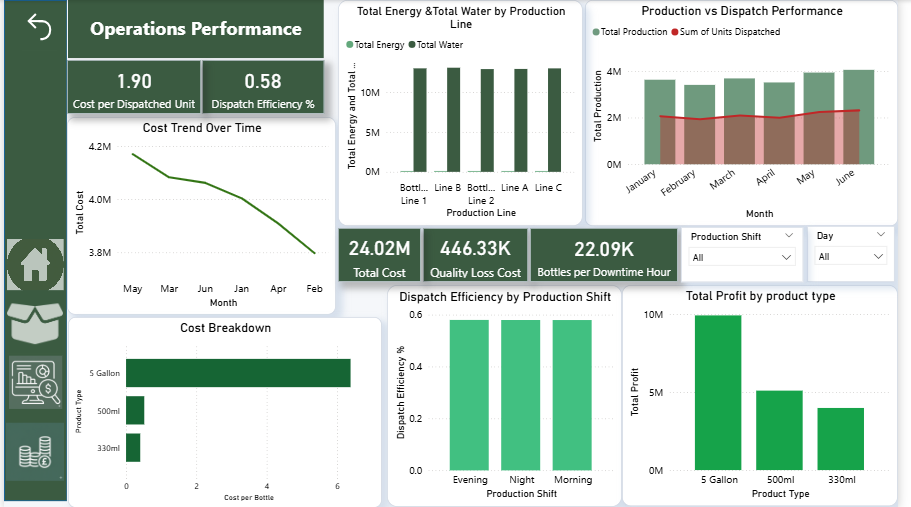

The page's visual inventory and layout, read from the dashboard file:
{"tool":"powerbi","page":{"name":"Operations Performance","canvas":[1293,735],"ordinal":3},"visuals":[{"type":"lineChart","title":"Cost Trend Over Time","fields":{"Category":["Rawda_procudtion_sales.Month"],"Y":["Measure Table.Total Cost"]},"box":[91.2,169.3,389.2,286.5],"z":0},{"type":"barChart","title":"Cost Breakdown","fields":{"Category":["Rawda_procudtion_sales.Product Type"],"Y":["Measure Table.Cost per Bottle"]},"box":[92.6,458.6,454.2,276.4],"z":1000},{"type":"clusteredColumnChart","title":"Dispatch Efficiency by Production Shift","fields":{"Category":["Rawda_procudtion_sales.Production Shift"],"Y":["Measure Table.Dispatch Efficiency %"]},"box":[554.1,412.4,340,321.2],"z":2000},{"type":"lineClusteredColumnComboChart","title":"Production vs Dispatch Performance","fields":{"Category":["Rawda_procudtion_sales.Date.Variation.Date Hierarchy.Month"],"Y":["Measure Table.Total Production"],"Y2":["Sum(Rawda_procudtion_sales.Units Dispatched)"]},"box":[840.6,0,452.9,327],"z":3000},{"type":"columnChart","title":"Total Profit by product type","fields":{"Category":["Rawda_procudtion_sales.Product Type"],"Y":["Measure Table.Total Profit"]},"box":[894.2,412.4,399.3,319.8],"z":4000},{"type":"clusteredColumnChart","title":"Total Energy &Total Water by Production Line","fields":{"Category":["Rawda_procudtion_sales.Production Line"],"Y":["Measure Table.Total Energy","Measure Table.Total Water"]},"box":[483.2,0,354.5,327],"z":5000},{"type":"shape","box":[0,0.6,91.5,725.1],"z":6000,"group":"g1"},{"type":"card","fields":{"Values":["Measure Table.Quality Loss Cost"]},"box":[606.2,329.9,151.9,78.1],"z":7000},{"type":"card","fields":{"Values":["Measure Table.Total Cost"]},"box":[483.2,329.9,120.1,78.1],"z":8000},{"type":"card","fields":{"Values":["Measure Table.Dispatch Efficiency %"]},"box":[286.5,86.8,176.5,78.1],"z":9000},{"type":"card","fields":{"Values":["Measure Table.Bottles per Downtime Hour"]},"box":[761,329.9,214.1,78.1],"z":10000},{"type":"slicer","fields":{"Values":["Rawda_procudtion_sales.Date.Variation.Date Hierarchy.Day"]},"box":[1161.8,327,127.3,81],"z":11000},{"type":"slicer","fields":{"Values":["Rawda_procudtion_sales.Production Shift"]},"box":[979.5,328.4,176.5,79.6],"z":12000},{"type":"actionButton","box":[4.3,424.5,81,88.3],"z":13000,"group":"g1"},{"type":"actionButton","box":[4.3,346.4,82.5,73.8],"z":14000,"group":"g1"},{"type":"actionButton","box":[26,4.9,50.6,69.4],"z":15000,"group":"g1"},{"type":"textbox","box":[92.6,0,370.4,83.9],"z":16000},{"type":"card","fields":{"Values":["Measure Table.Cost per Dispatched Unit"]},"box":[91.2,86.8,193.9,78.1],"z":17000},{"type":"actionButton","box":[7.2,514.2,76.7,78.1],"z":18000,"group":"g1"},{"type":"actionButton","box":[2.9,595.3,83.9,118.6],"z":19000,"group":"g1"},{"type":"group","id":"g1","title":"Group 1","box":[0,0.6,91.5,725.1],"z":20001}]}

Visuals, with their boxes on the page's 1293x735 design canvas (x1, y1, x2, y2). These are canvas units, not pixel positions in the 911x507 screenshot, which may show the page scaled, cropped or inside an application window:
"Cost Trend Over Time" lineChart: bbox=[91, 169, 480, 456]
"Cost Breakdown" barChart: bbox=[93, 459, 547, 735]
"Dispatch Efficiency by Production Shift" clusteredColumnChart: bbox=[554, 412, 894, 734]
"Production vs Dispatch Performance" lineClusteredColumnComboChart: bbox=[841, 0, 1294, 327]
"Total Profit by product type" columnChart: bbox=[894, 412, 1294, 732]
"Total Energy &Total Water by Production Line" clusteredColumnChart: bbox=[483, 0, 838, 327]
shape: bbox=[0, 1, 92, 726]
card - Measure Table.Quality Loss Cost: bbox=[606, 330, 758, 408]
card - Measure Table.Total Cost: bbox=[483, 330, 603, 408]
card - Measure Table.Dispatch Efficiency %: bbox=[286, 87, 463, 165]
card - Measure Table.Bottles per Downtime Hour: bbox=[761, 330, 975, 408]
slicer - Rawda_procudtion_sales.Date.Variation.Date Hierarchy.Day: bbox=[1162, 327, 1289, 408]
slicer - Rawda_procudtion_sales.Production Shift: bbox=[980, 328, 1156, 408]
actionButton: bbox=[4, 424, 85, 513]
actionButton: bbox=[4, 346, 87, 420]
actionButton: bbox=[26, 5, 77, 74]
textbox: bbox=[93, 0, 463, 84]
card - Measure Table.Cost per Dispatched Unit: bbox=[91, 87, 285, 165]
actionButton: bbox=[7, 514, 84, 592]
actionButton: bbox=[3, 595, 87, 714]
"Group 1" group: bbox=[0, 1, 92, 726]
